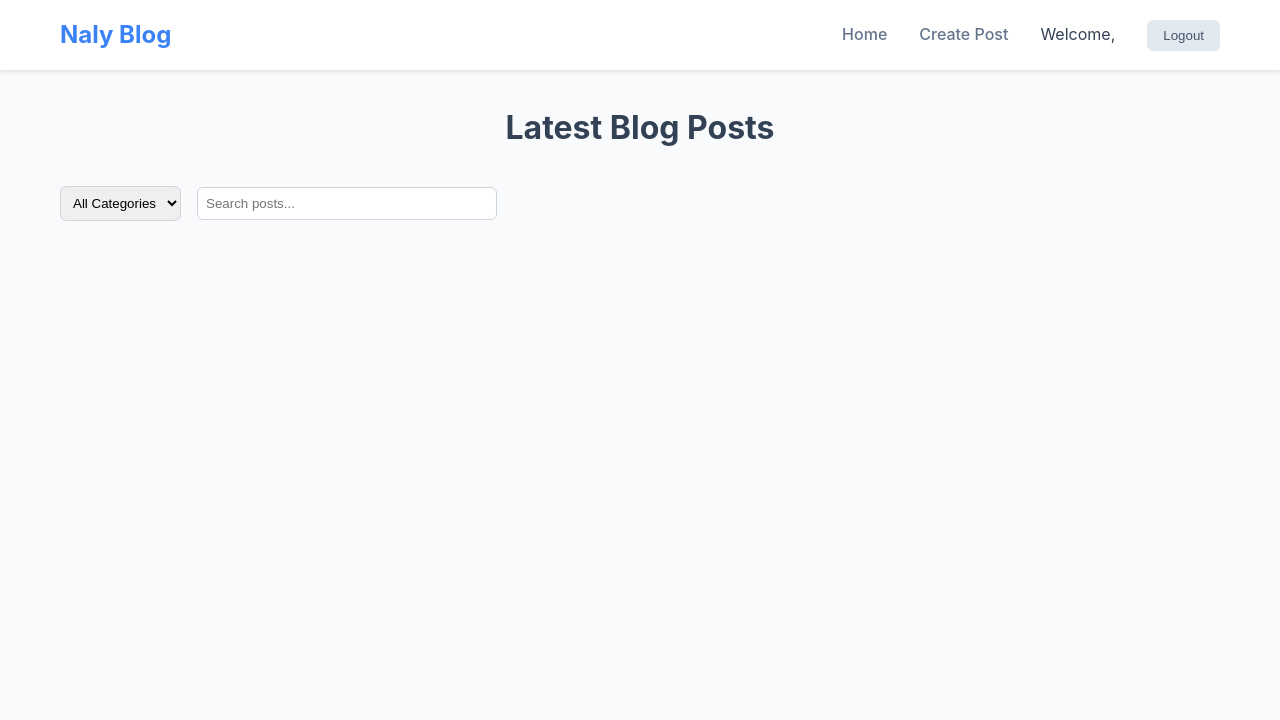
Test: Navigation and Routing › Authenticated Navigation › should navigate to create post page
Step 1. Click the link "Create Post" → (964, 35), box [919,22,1008,48]
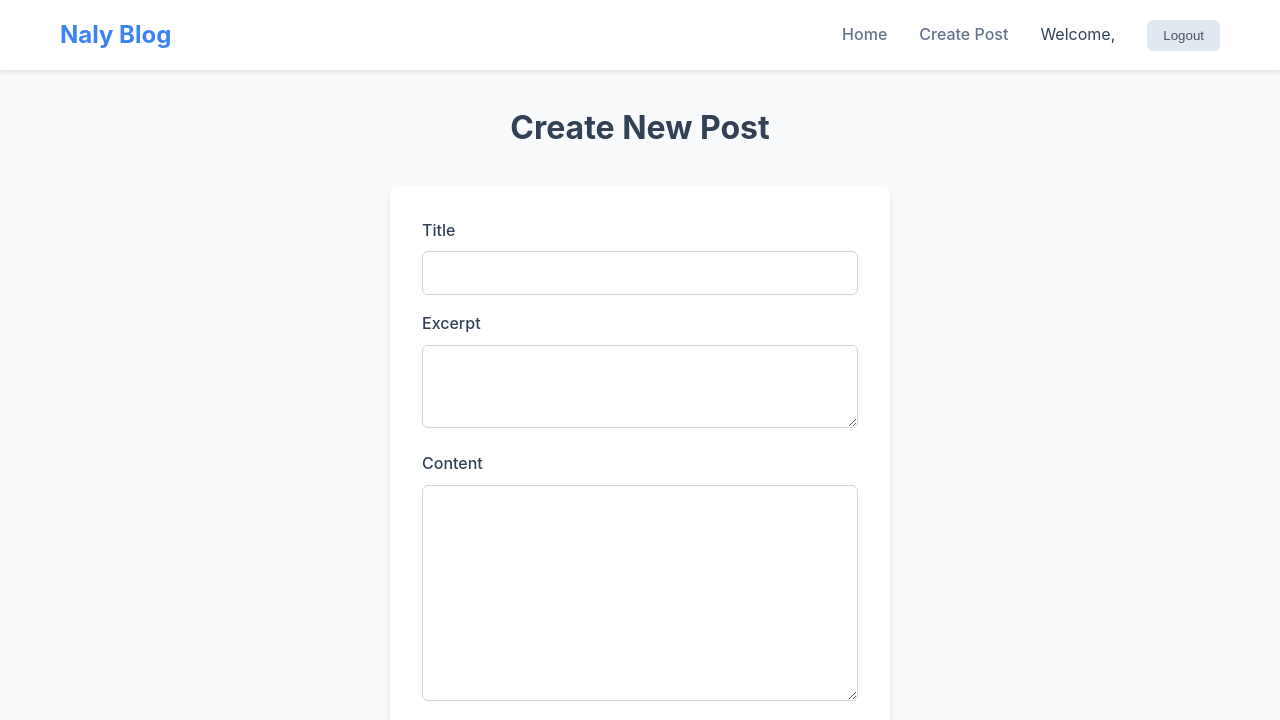
Expected: the heading "Create New Post" is shown, [510,108,770,147]
